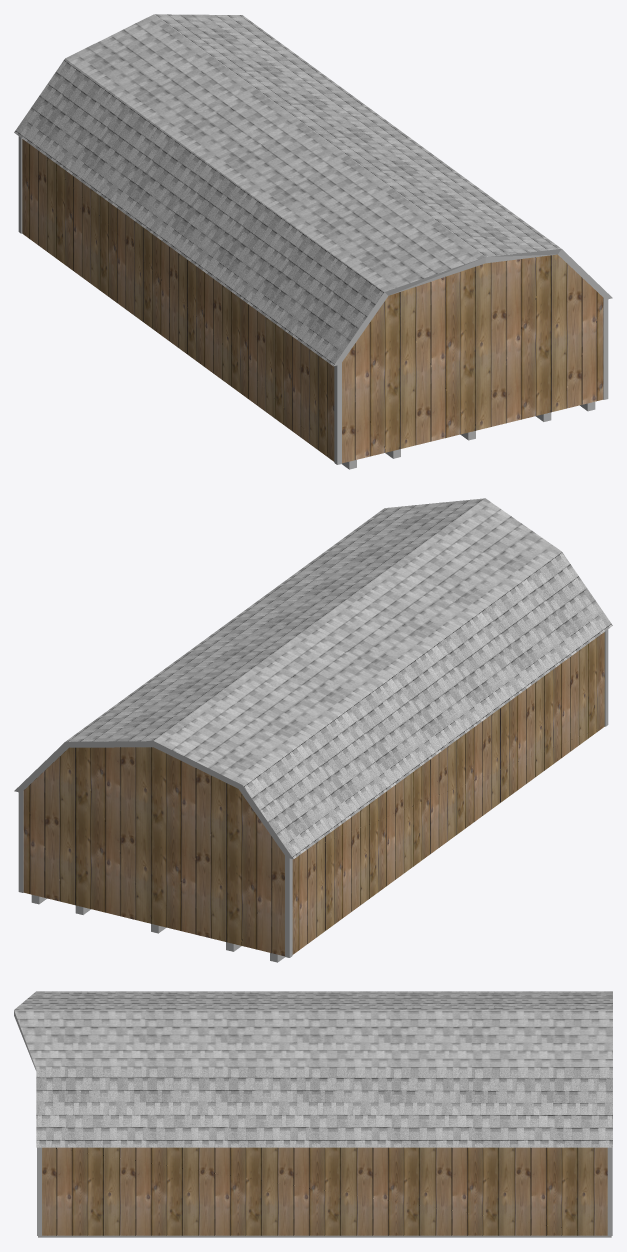
Rendered from Mini Barn Sheds_12x24.obj.
3 renders of one model, top to bottom at view 1: azimuth 30°, elevation 25°; view 2: azimuth 150°, elevation 25°; view 3: azimuth 270°, elevation 25°, orthographic. The views are drawn at different scales.
Visible parts, largest first — view 1: Roof, Shed, Sides, Trim; view 2: Roof, Shed, Sides, Trim; view 3: Roof, Shed, Floor, Trim.
Boxes of the visible parts, x1,y1,x2,y2 form: Roof: [14, 14, 561, 365]; Shed: [22, 139, 603, 463]; Sides: [333, 249, 612, 366]; Trim: [18, 136, 608, 464]; Roof: [65, 498, 612, 858]; Shed: [23, 632, 604, 956]; Sides: [14, 741, 293, 859]; Trim: [18, 629, 608, 957]; Roof: [14, 991, 612, 1147]; Shed: [42, 1147, 607, 1235]; Floor: [38, 1235, 611, 1237]; Trim: [37, 1147, 612, 1235].
Bounding box in the file's own units: 3.72 × 2.44 × 7.64.
